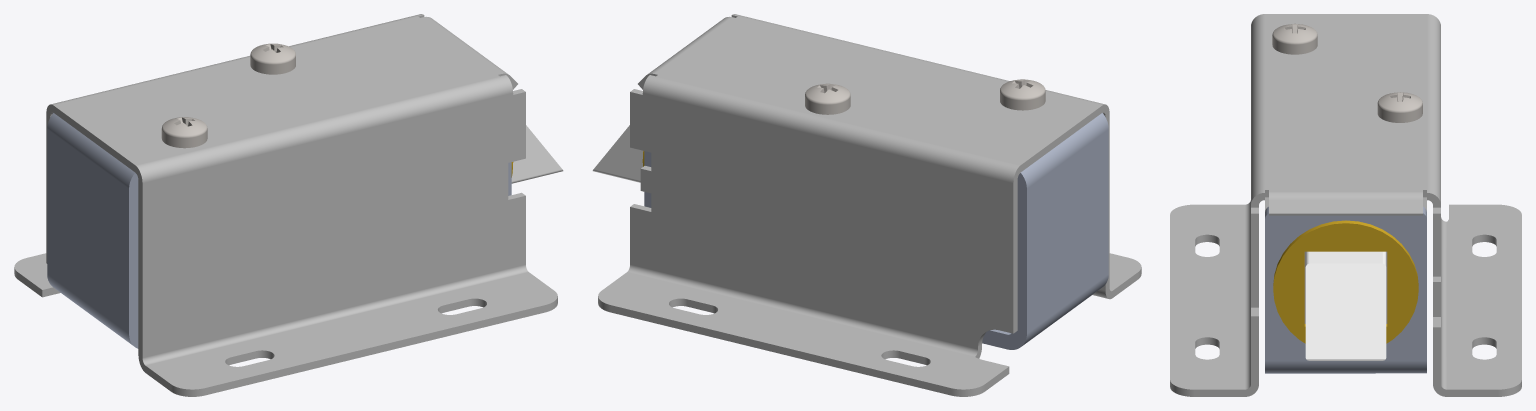
Rendered from DoorLocks.fbx.
3 views of the same model, side by side, from view 1: azimuth 30°, elevation 25°; view 2: azimuth 150°, elevation 25°; view 3: azimuth 270°, elevation 25° (orthographic).
Parts seen in each view (by area): view 1: Part6, Part1, pan cross head_am_B18.6.7M - M3 x 0.5 x 5 Type I Cross Reces (×2), Part4; view 2: Part6, Part1, pan cross head_am_B18.6.7M - M3 x 0.5 x 5 Type I Cross Reces (×2), Part4; view 3: Part6, Part1, Part4, Part2, pan cross head_am_B18.6.7M - M3 x 0.5 x 5 Type I Cross Reces (×2).
Boxes of the visible parts, x1,y1,x2,y2 form: Part6: (14, 14, 557, 396); Part1: (47, 113, 511, 348); pan cross head_am_B18.6.7M - M3 x 0.5 x 5 Type I Cross Reces (×2): (161, 43, 295, 148); Part4: (511, 125, 563, 183); Part6: (598, 14, 1141, 396); Part1: (644, 113, 1108, 349); pan cross head_am_B18.6.7M - M3 x 0.5 x 5 Type I Cross Reces (×2): (805, 79, 1045, 114); Part4: (592, 125, 643, 182); Part6: (1170, 14, 1521, 396); Part1: (1265, 206, 1426, 373); Part4: (1305, 251, 1386, 360); Part2: (1273, 220, 1418, 343); pan cross head_am_B18.6.7M - M3 x 0.5 x 5 Type I Cross Reces (×2): (1272, 23, 1422, 122).
Bounding box in the file's own units: 6.43 × 2.94 × 4.35.
